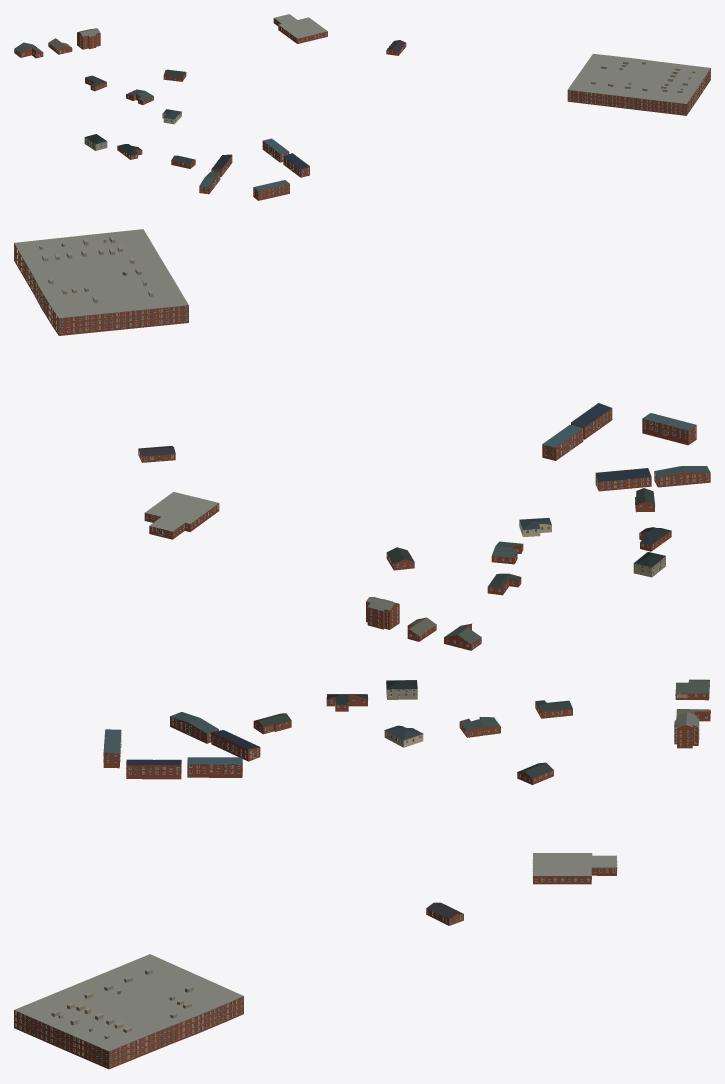
3 views of the same model, one above another, from view 1: azimuth 30°, elevation 25°; view 2: azimuth 150°, elevation 25°; view 3: azimuth 270°, elevation 25° (orthographic). The views are drawn at different scales.
Visible parts, largest first — view 1: -5_2_596122286_0; view 2: -5_2_596122286_0; view 3: -5_2_596122286_0.
Part boxes in pixels (x1,y1,x2,y2): -5_2_596122286_0: (14, 14, 710, 200); -5_2_596122286_0: (14, 229, 710, 650); -5_2_596122286_0: (14, 679, 710, 1069).
Size of the model in its own units: 556 by 29.18 by 416.
